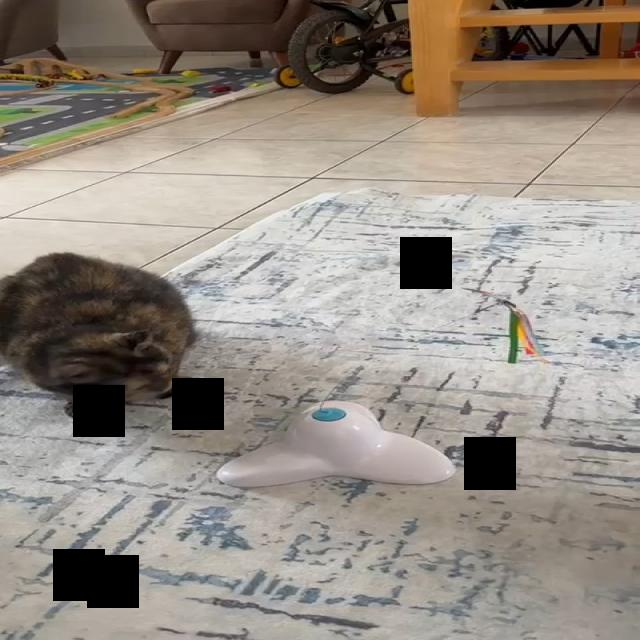authorized: (0, 250, 197, 417)
